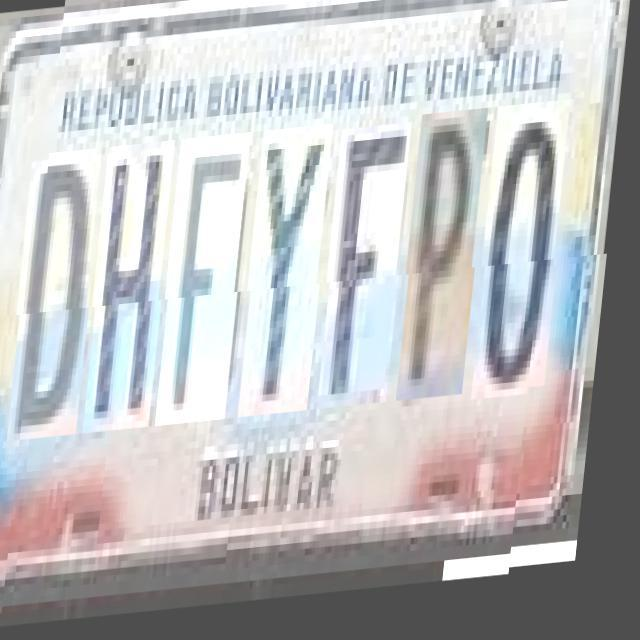D: (16, 150, 109, 442)
F: (165, 138, 258, 430), (326, 131, 418, 417)
H: (92, 144, 181, 436)
O: (481, 112, 577, 411)
P: (406, 118, 494, 410)
Y: (247, 132, 340, 424)
